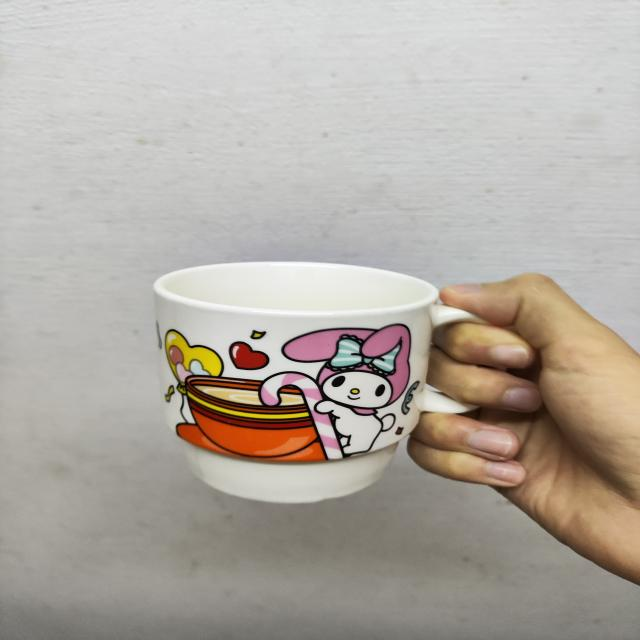cup: (143, 249, 500, 518)
